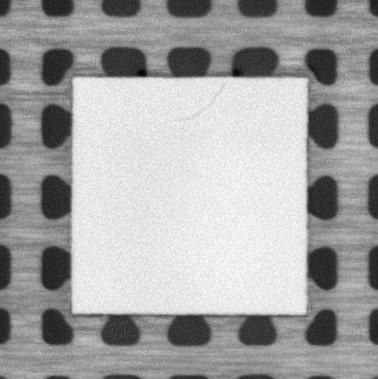DIE_CRACK: (175, 81, 229, 124)
